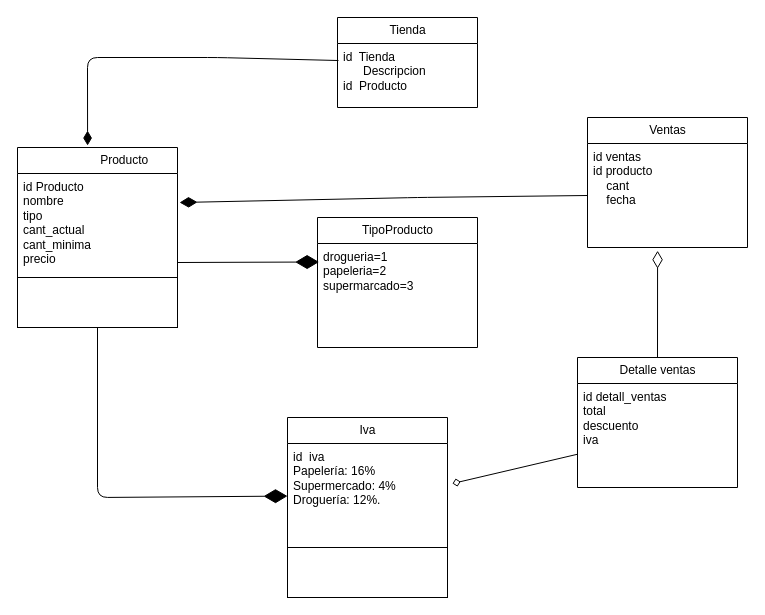
This 765x615 diagram has some shape labels left out. The shapes that lost their labels are listed below. From the top down, each one's centre as x and y in pixels, then its label:
[97,302]: Agregar Abastecer Cambiar
[367,572]: Calcular IVA
